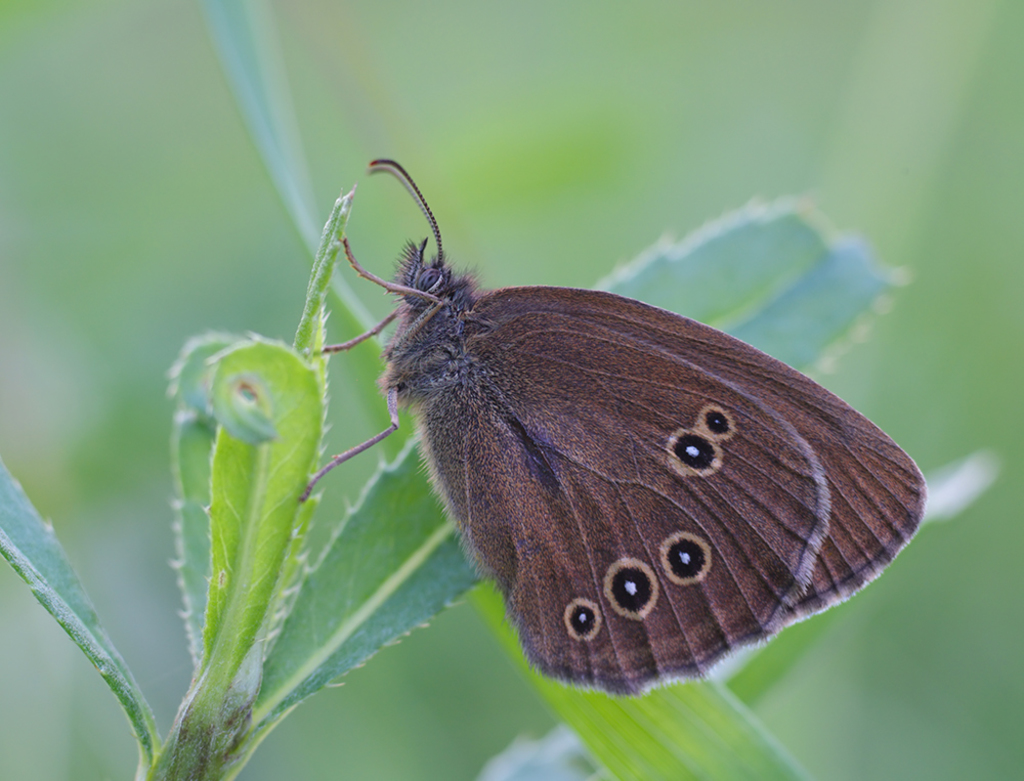Butterfly: (321, 188, 934, 707)
